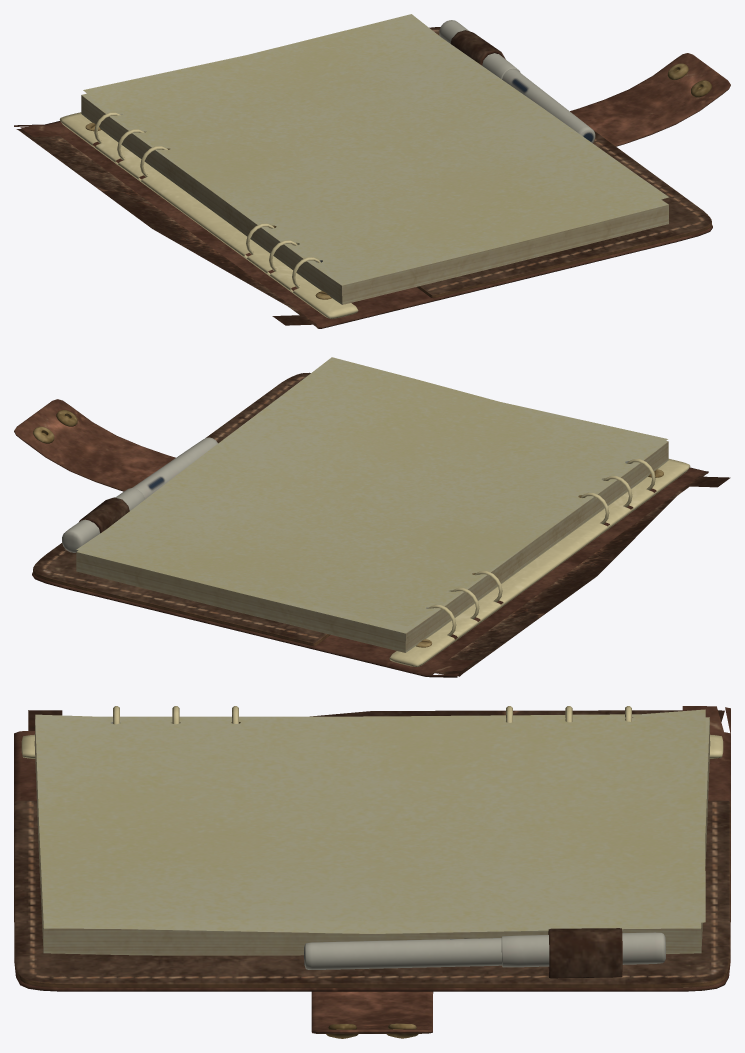
The model's file is binder_body.fbx.
3 views of the same model, one above another, from view 1: azimuth 30°, elevation 25°; view 2: azimuth 150°, elevation 25°; view 3: azimuth 270°, elevation 25° (orthographic). The views are drawn at different scales.
Visible parts, largest first — view 1: binder_body; view 2: binder_body; view 3: binder_body.
Part boxes in pixels (x1=…): binder_body: x1=14, y1=14, x2=730, y2=328; binder_body: x1=14, y1=357, x2=730, y2=677; binder_body: x1=14, y1=706, x2=730, y2=1038.
Bounding box in the file's own units: 0.232 × 0.016 × 0.1992.
1 material, 1 textured.
